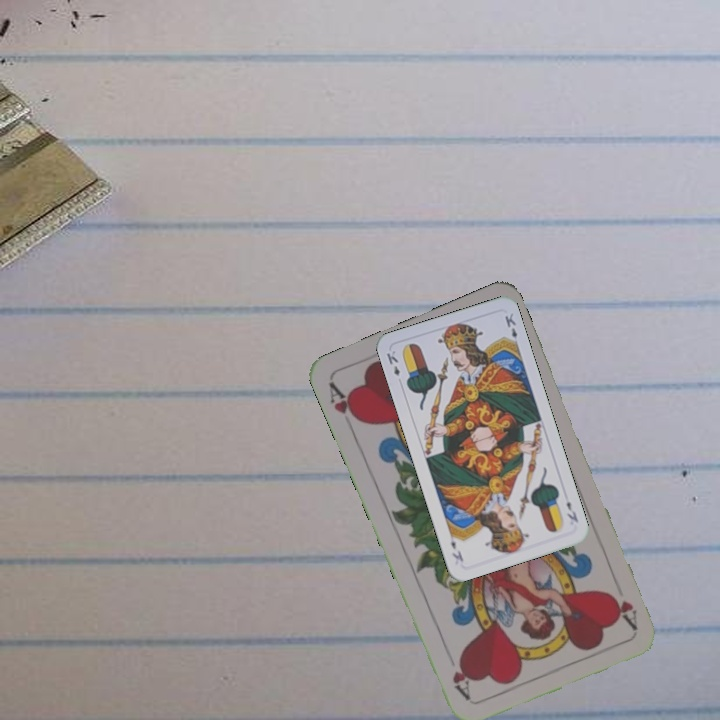EK: (382, 346, 402, 379), (562, 497, 581, 525)
HA: (324, 378, 364, 426), (611, 593, 640, 630)
